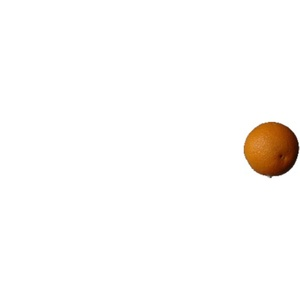laranja: (239, 120, 298, 177)
